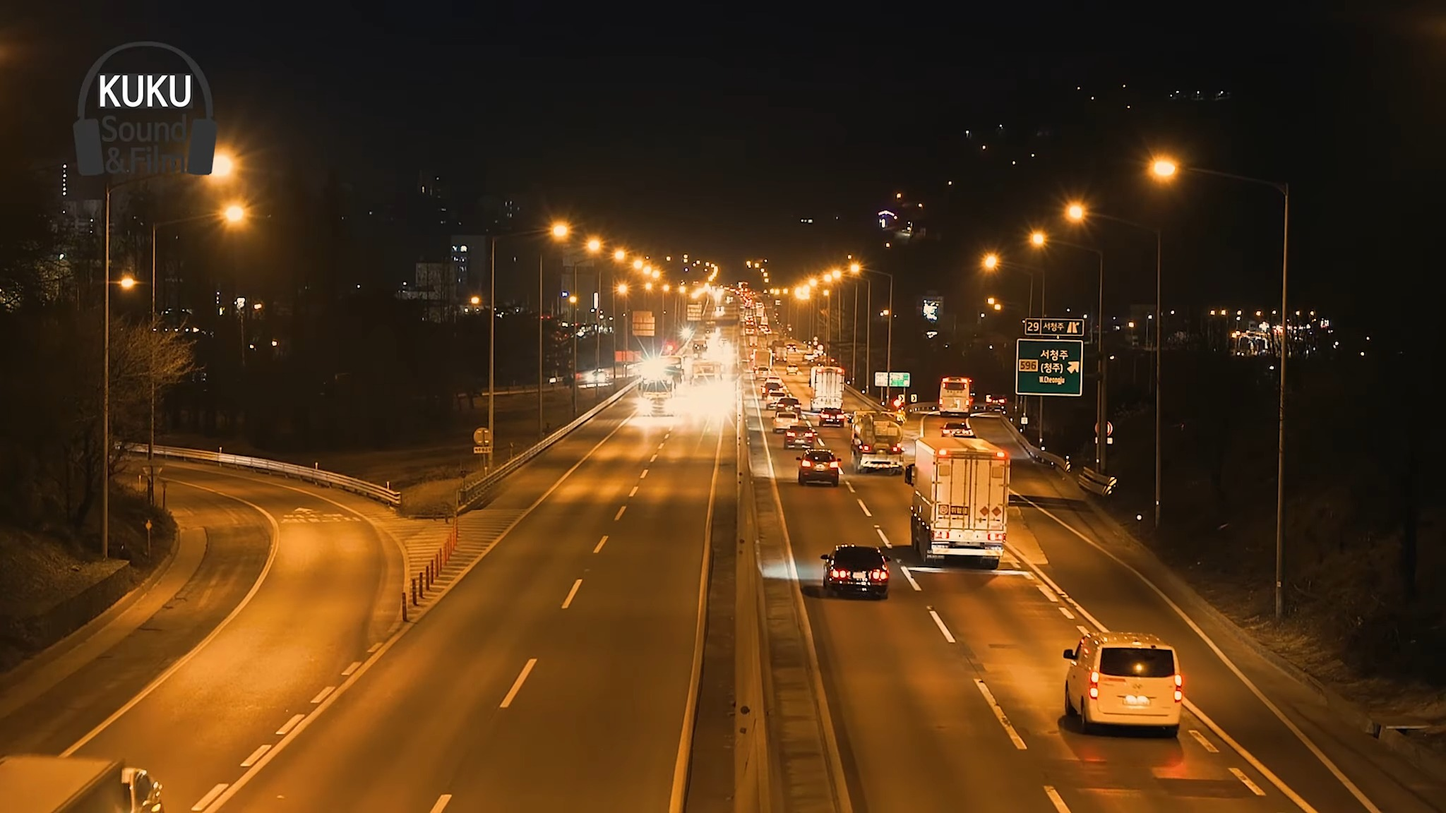car: (1065, 623, 1189, 742), (819, 540, 894, 603), (798, 452, 842, 483)
truck: (909, 431, 1008, 576), (851, 410, 910, 476)
